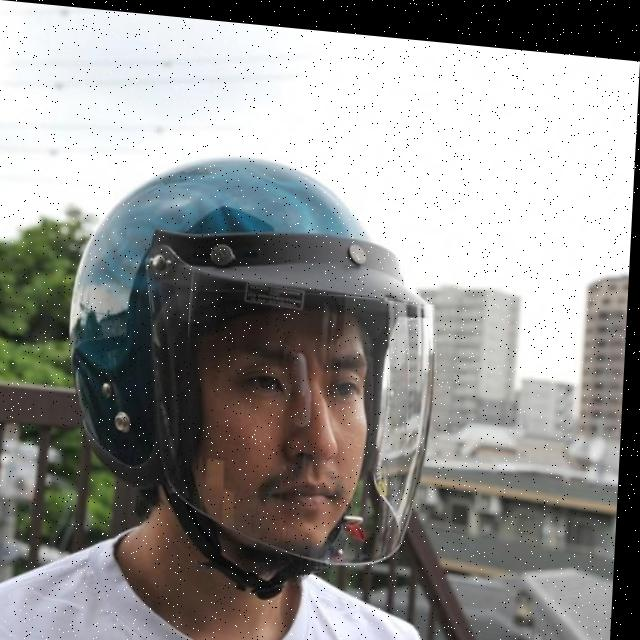helmet: (51, 122, 456, 613)
